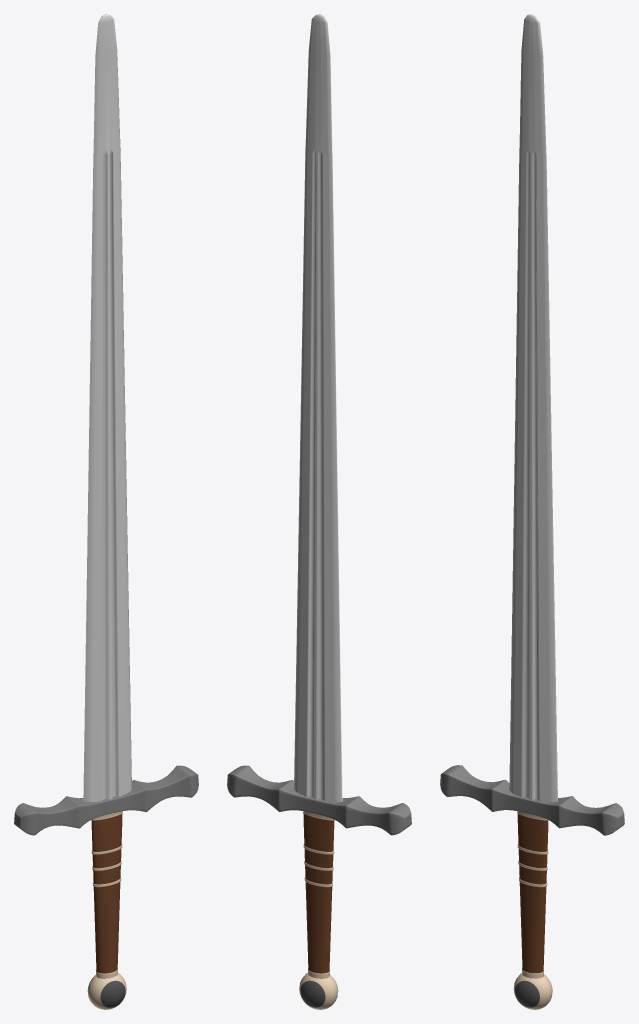
File: Broadsword.fbx
The picture shows the model from 3 angles, left to right: view 1: azimuth 30°, elevation 25°; view 2: azimuth 150°, elevation 25°; view 3: azimuth 330°, elevation 25°; orthographic projection.
Parts seen in each view (by area): view 1: Broadsword_LOD0; view 2: Broadsword_LOD0; view 3: Broadsword_LOD0.
Boxes of the visible parts, bbox=[...] form: Broadsword_LOD0: bbox=[14, 14, 198, 1009]; Broadsword_LOD0: bbox=[227, 14, 411, 1009]; Broadsword_LOD0: bbox=[440, 14, 624, 1009].
Size of what is drawn, in the model's own units: 64.1 by 341 by 10.29.
